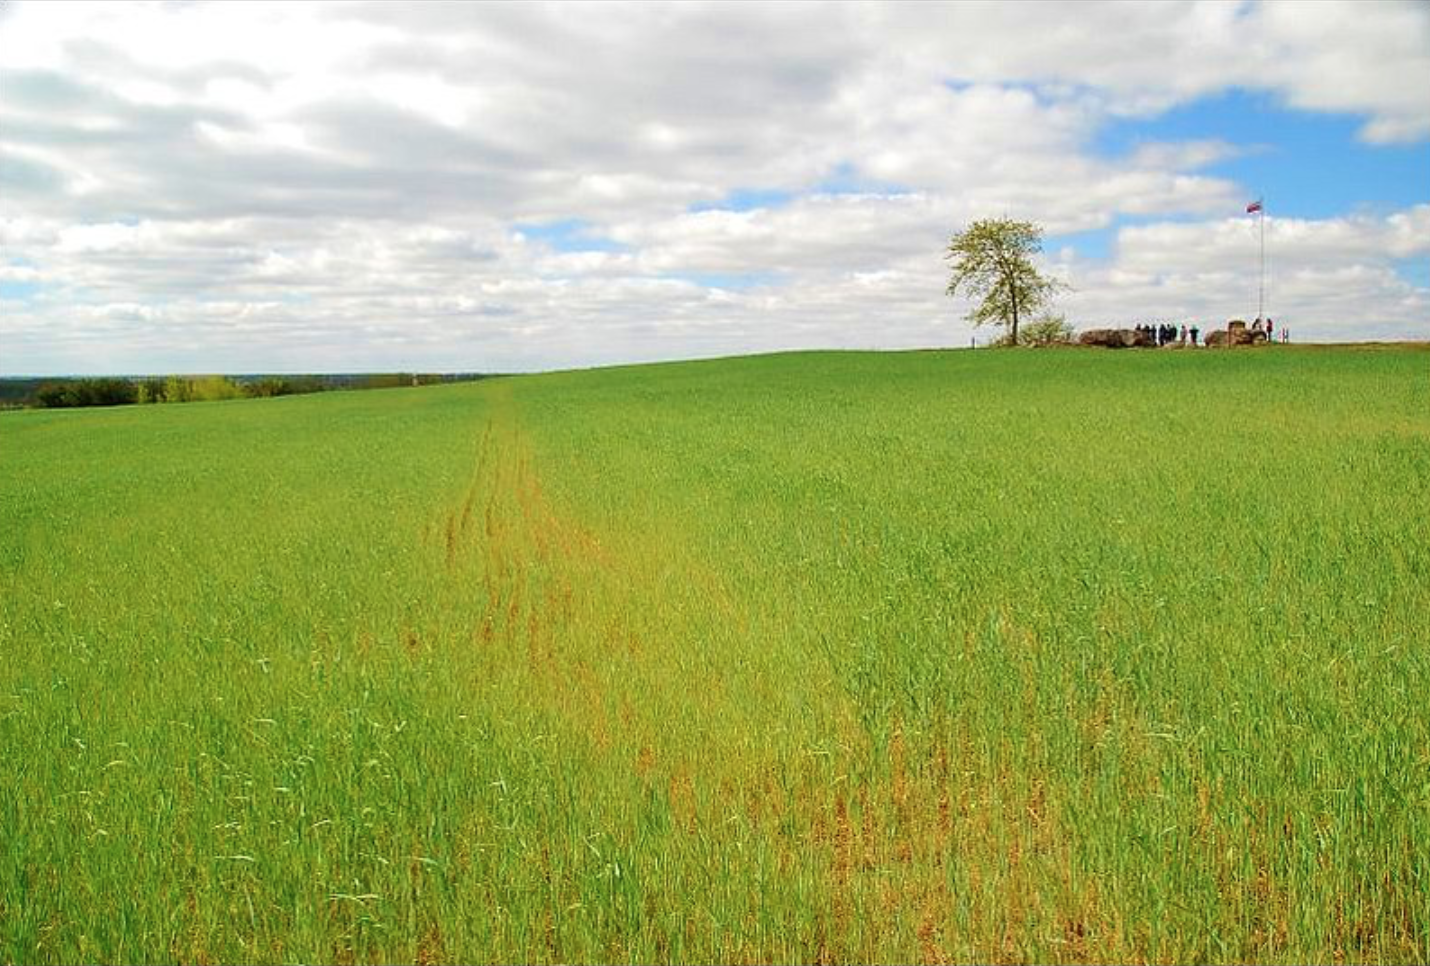Flag: (1244, 198, 1262, 218)
